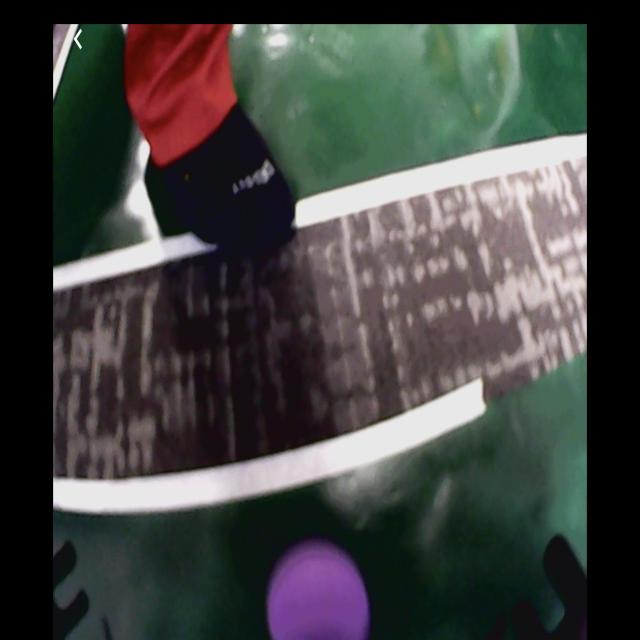ball: (269, 547, 370, 640)
